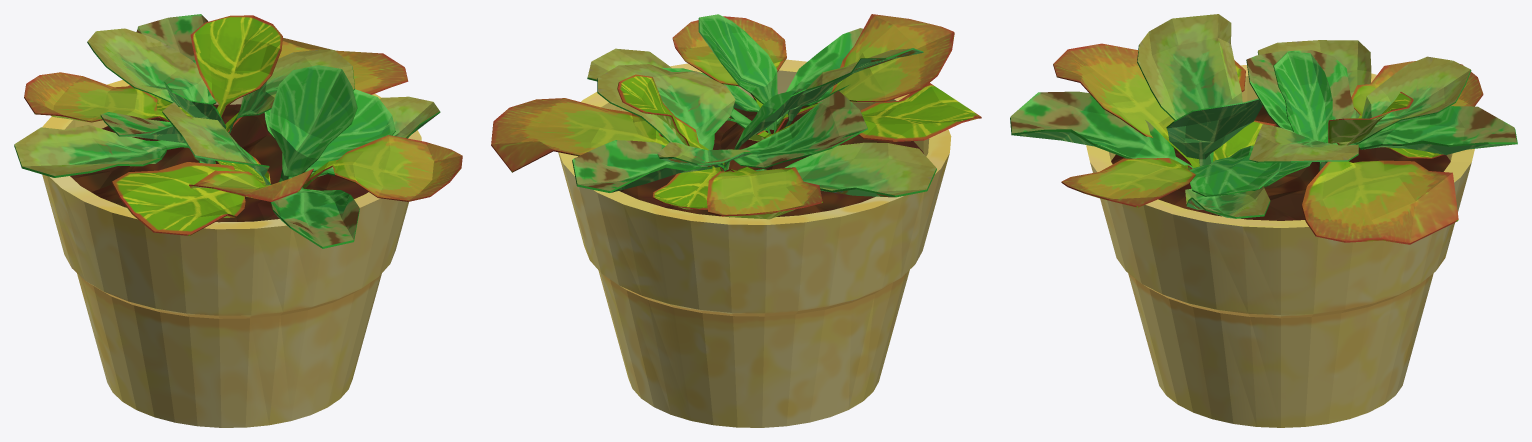
Rendered from Bergenia_Bad_End.glb.
3 views of the same model, side by side, from view 1: azimuth 30°, elevation 25°; view 2: azimuth 150°, elevation 25°; view 3: azimuth 270°, elevation 25° (orthographic). The views are drawn at different scales.
Visible parts, largest first — view 1: Pot.002, leaf_4.011; view 2: Pot.002, leaf_4.011; view 3: leaf_4.011, Pot.002.
Boxes of the visible parts, <box> form: Pot.002: <box>42,80,421,427</box>; leaf_4.011: <box>14,14,462,248</box>; Pot.002: <box>558,59,951,427</box>; leaf_4.011: <box>491,14,981,219</box>; leaf_4.011: <box>1010,14,1517,244</box>; Pot.002: <box>1086,65,1474,427</box>.
Size of the model in its own units: 2.42 by 1.82 by 2.67.
Materials: 6 (6 with a texture image).
